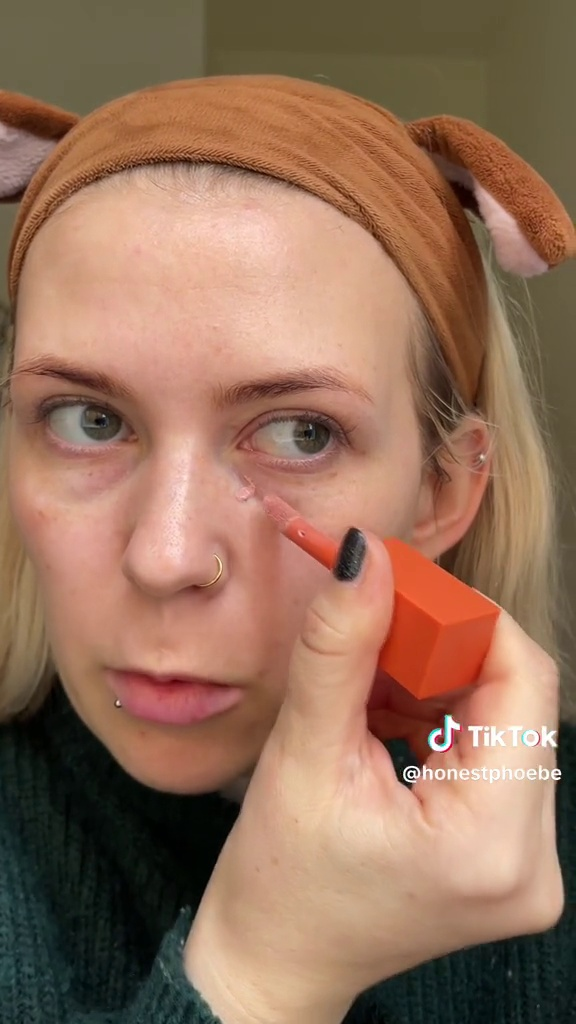train' :'yolo_data/train/images',: (239, 483, 511, 696)
